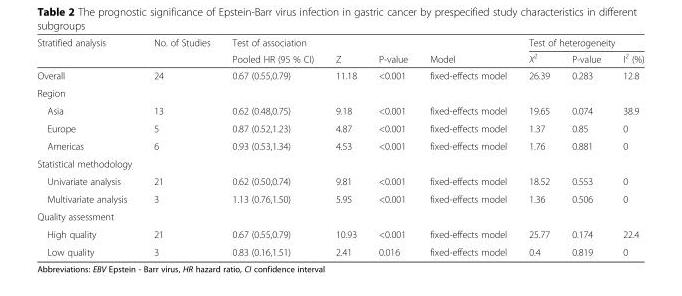table: (36, 36, 643, 257)
table column: (36, 36, 142, 257), (220, 36, 324, 257), (418, 36, 517, 257), (142, 36, 220, 257), (366, 36, 418, 257), (560, 36, 611, 257), (517, 36, 560, 257), (324, 36, 366, 257), (611, 36, 643, 257)
table column header: (36, 36, 643, 66)
table projected row header: (36, 83, 643, 101), (36, 154, 643, 172), (36, 207, 643, 225)
table row: (36, 83, 643, 101), (36, 101, 643, 119), (36, 136, 643, 154), (36, 154, 643, 172), (36, 189, 643, 207), (36, 207, 643, 225), (36, 49, 643, 66), (36, 66, 643, 83), (36, 119, 643, 136), (36, 172, 643, 189), (36, 225, 643, 242), (36, 242, 643, 257), (36, 36, 643, 49)
table spanning cell: (36, 36, 142, 66), (220, 36, 324, 66), (418, 36, 517, 66), (142, 36, 220, 66), (517, 36, 643, 49), (366, 36, 418, 66), (324, 36, 366, 66)
